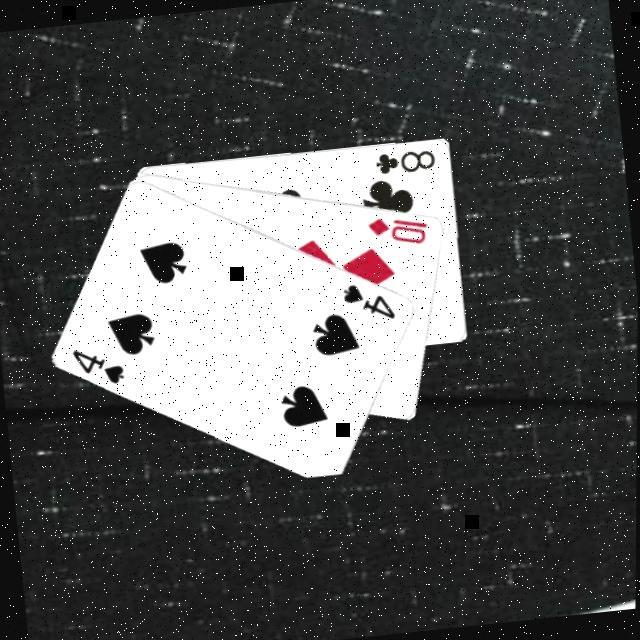10D: (365, 207, 433, 250)
4S: (340, 274, 400, 326), (70, 339, 130, 390)
8C: (372, 142, 439, 177)
